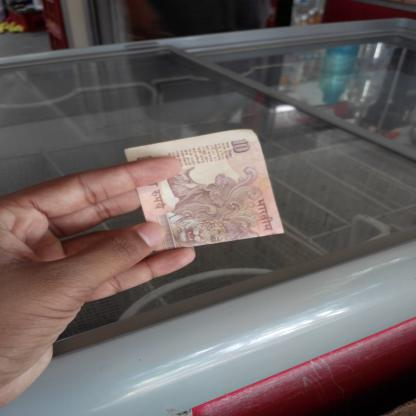Old10Back: (124, 129, 284, 252)
